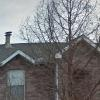Chimney: (3, 27, 18, 54)
